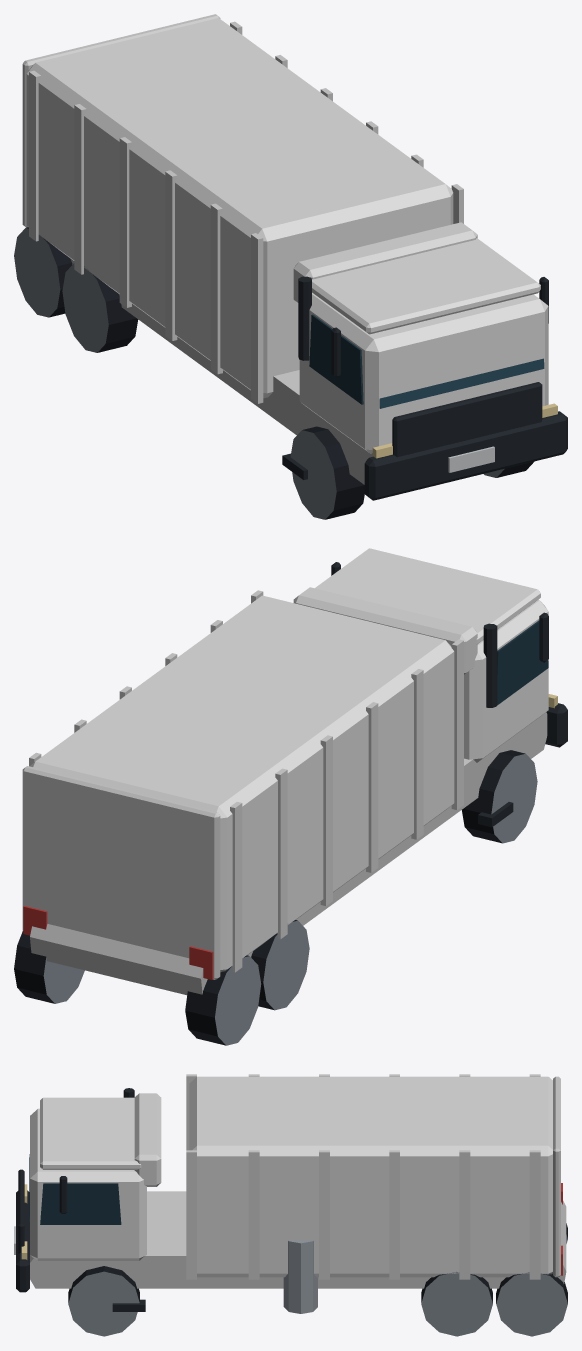
The model's file is car_truck_lod0-BQVcad1L.glb.
3 views of the same model, one above another, from view 1: azimuth 30°, elevation 25°; view 2: azimuth 150°, elevation 25°; view 3: azimuth 270°, elevation 25° (orthographic). The views are drawn at different scales.
Parts seen in each view (by area): view 1: paint, trim; view 2: paint, trim; view 3: paint, trim.
Part boxes in pixels (x1=…): paint: x1=22, y1=14, x2=548, y2=484; trim: x1=14, y1=227, x2=567, y2=519; paint: x1=22, y1=548, x2=548, y2=995; trim: x1=14, y1=562, x2=567, y2=1045; paint: x1=30, y1=1074, x2=566, y2=1288; trim: x1=14, y1=1088, x2=567, y2=1336.
Size of the model in its own units: 2.47 by 2.65 by 7.1.
